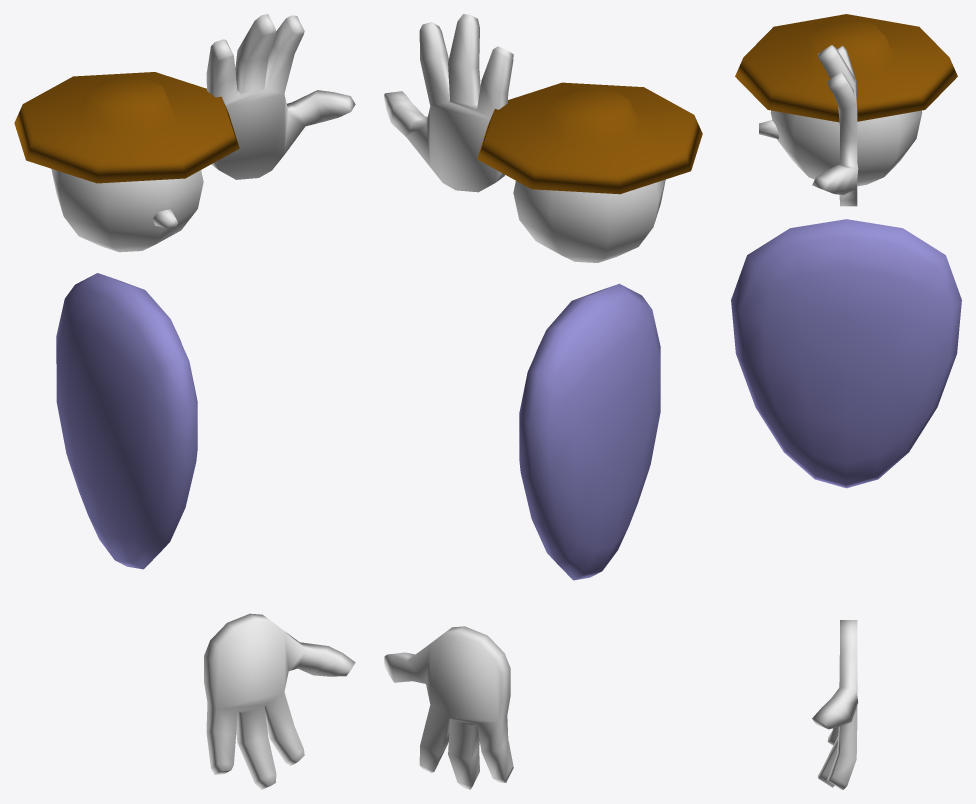
Rendered from character.fbx.
The picture shows the model from 3 angles, left to right: view 1: azimuth 30°, elevation 25°; view 2: azimuth 150°, elevation 25°; view 3: azimuth 270°, elevation 25°; orthographic projection. The views are drawn at different scales.
Visible parts, largest first — view 1: Test, K_z, Kalap, Fej; view 2: Test, K_z, Kalap, Fej; view 3: Test, Kalap, K_z, Fej.
Boxes of the visible parts, x1,y1,x2,y2 form: Test: (56, 273, 197, 569); K_z: (204, 14, 355, 789); Kalap: (14, 72, 239, 183); Fej: (51, 169, 203, 252); Test: (519, 283, 660, 580); K_z: (384, 14, 513, 789); Kalap: (477, 82, 702, 194); Fej: (513, 179, 665, 262); Test: (731, 219, 961, 488); Kalap: (735, 14, 957, 122); K_z: (812, 45, 858, 789); Fej: (770, 110, 922, 186).
Bounding box in the file's own units: 7.2 × 16.75 × 4.73.
